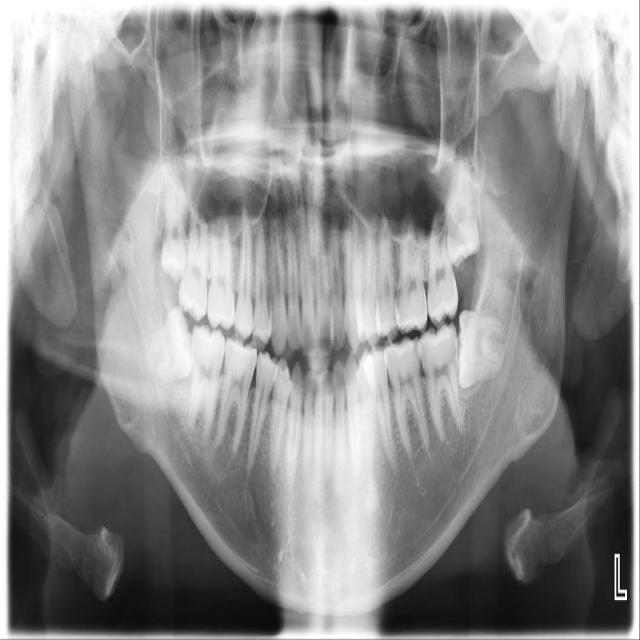impacted tooth: (143, 305, 196, 381), (458, 311, 507, 390), (445, 158, 481, 264), (159, 168, 188, 285)
